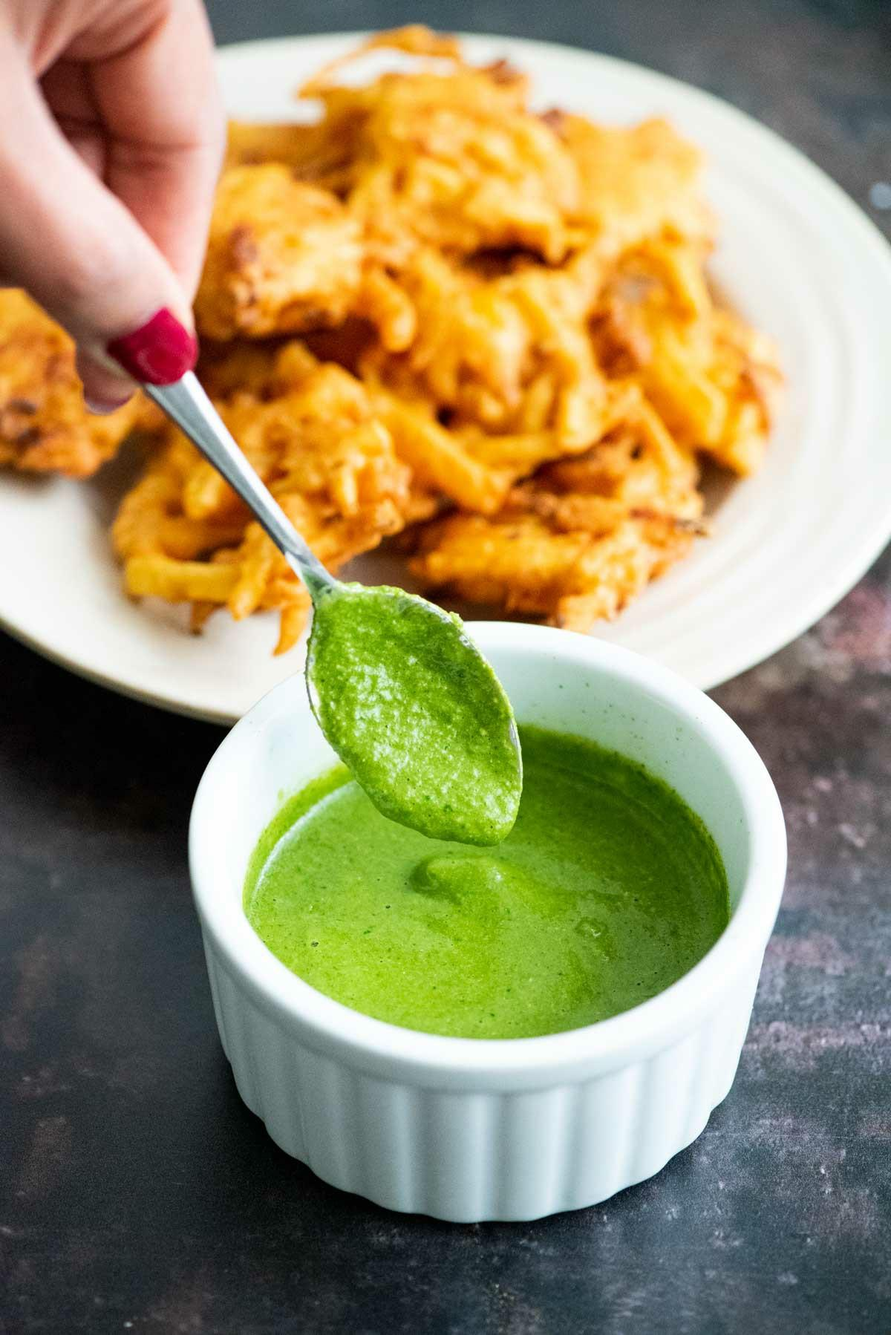GreenChutney: (250, 747, 729, 1039), (310, 590, 524, 847)
